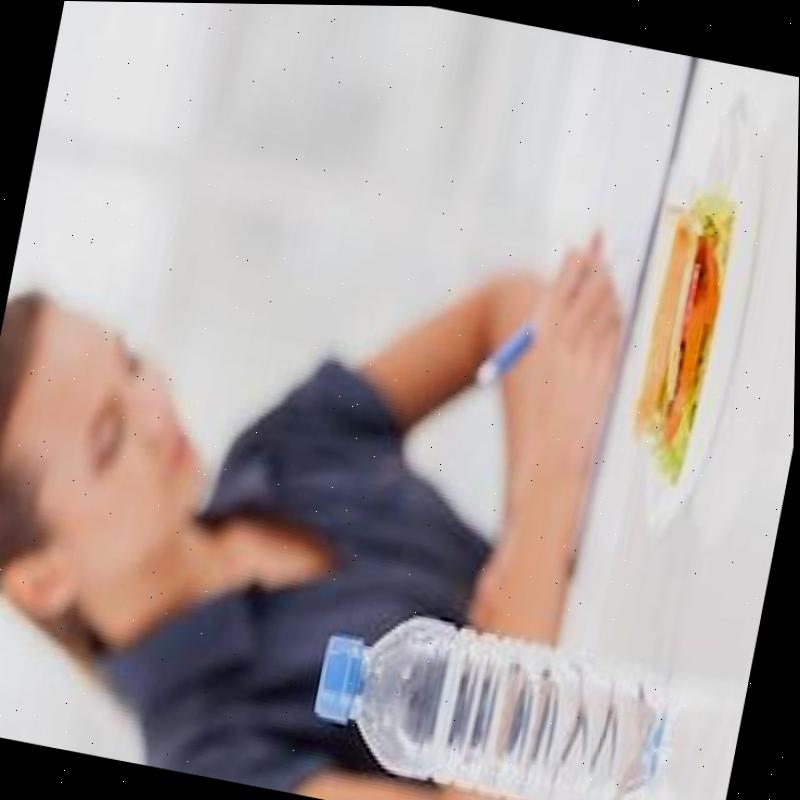botella: (307, 601, 684, 800)
